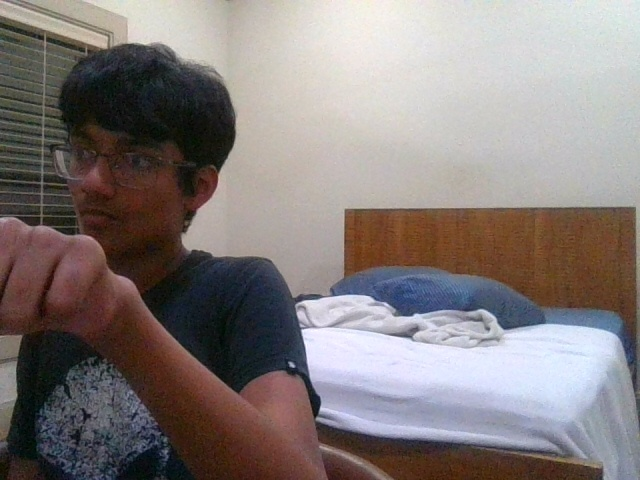yes: (1, 202, 110, 338)
